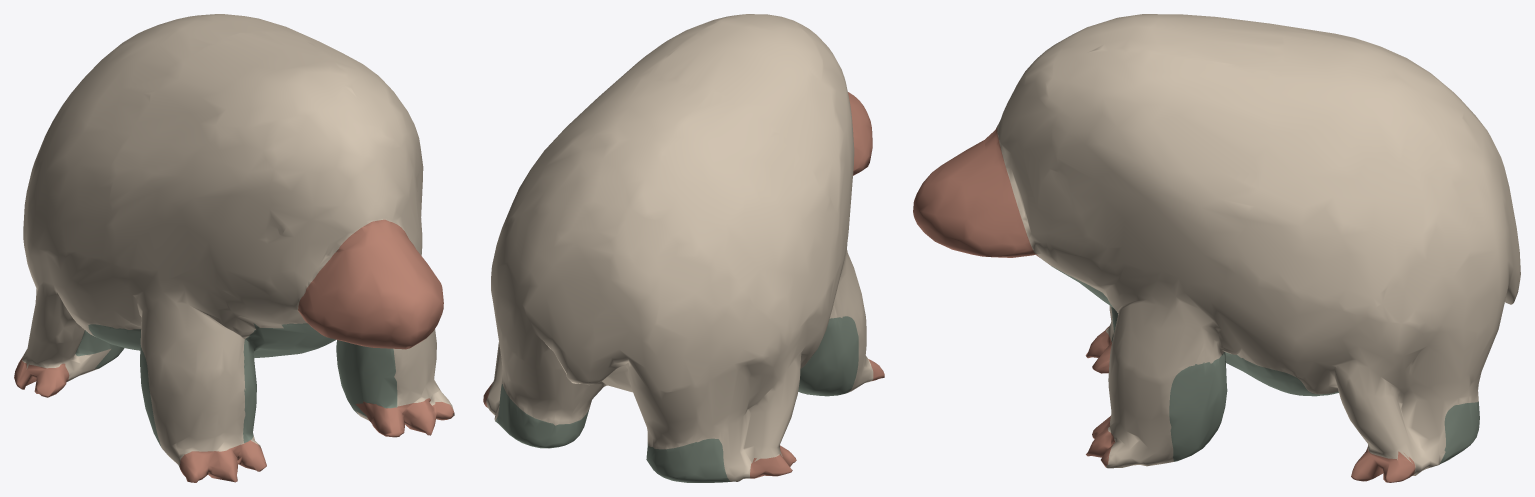
The model's file is shovelmole.glb.
The picture shows the model from 3 angles, left to right: view 1: azimuth 30°, elevation 25°; view 2: azimuth 150°, elevation 25°; view 3: azimuth 270°, elevation 25°; orthographic projection. The views are drawn at different scales.
Visible parts, largest first — view 1: shovel mole tripo; view 2: shovel mole tripo; view 3: shovel mole tripo.
Boxes of the visible parts, x1,y1,x2,y2 form: shovel mole tripo: [14, 14, 454, 482]; shovel mole tripo: [483, 14, 884, 482]; shovel mole tripo: [913, 14, 1520, 482].
Size of the model in its own units: 1.14 by 1.2 by 1.74.
